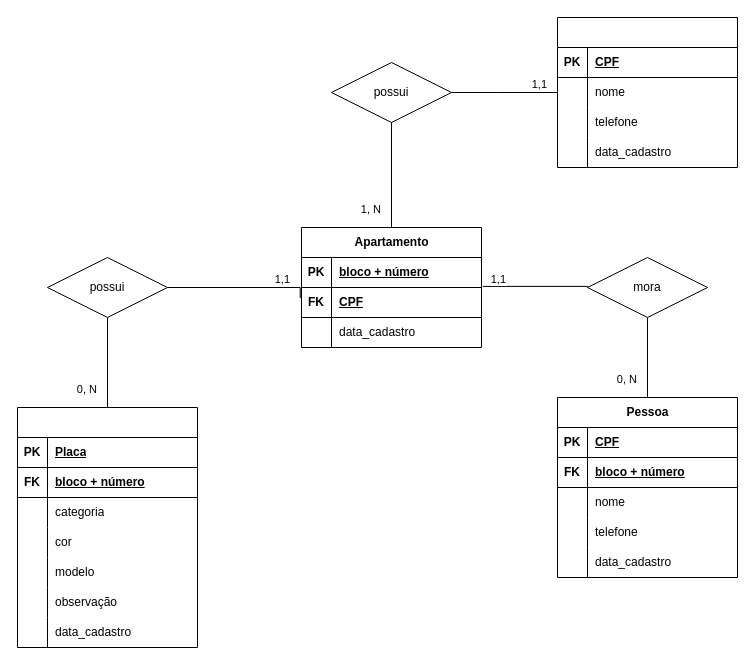
This 755x665 diagram has some shape labels left out. Here are the shapes that lost their labels. From the top down, the box of each, then its label:
(556, 16, 738, 168): Proprietário
(16, 406, 198, 648): Veículo
